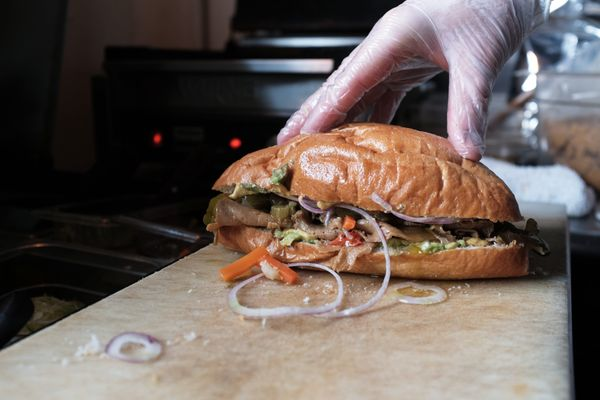soup: (203, 122, 549, 281)
